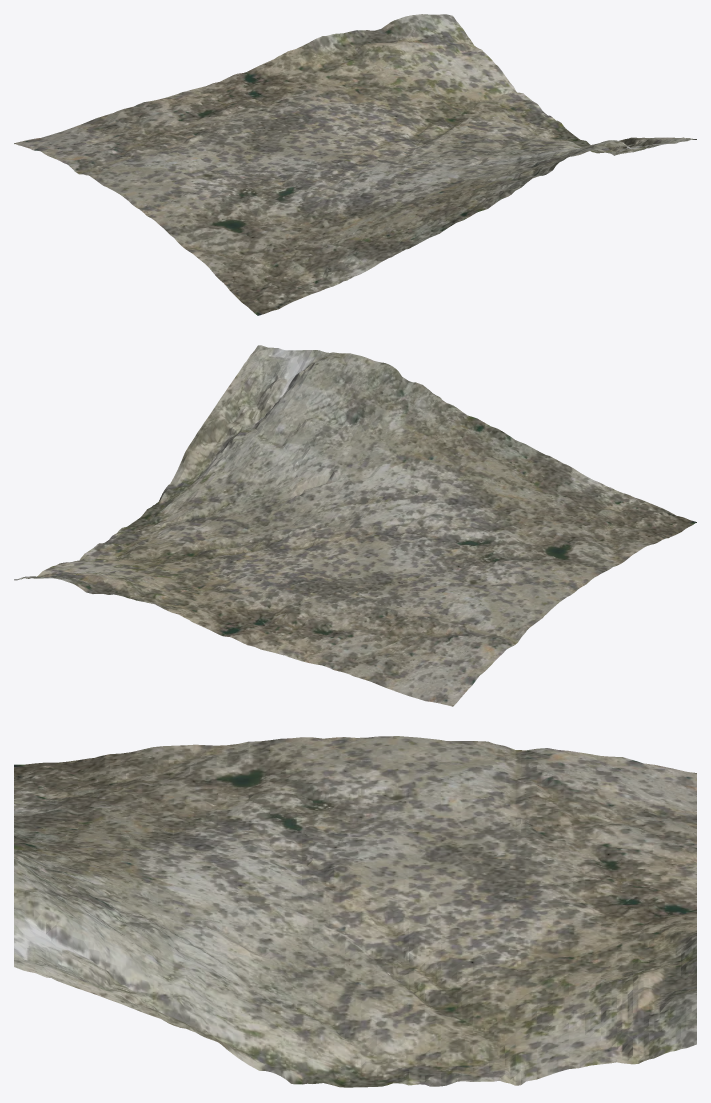
3 views of the same model, one above another, from view 1: azimuth 30°, elevation 25°; view 2: azimuth 150°, elevation 25°; view 3: azimuth 270°, elevation 25° (orthographic). The views are drawn at different scales.
Size of the model in its own units: 500 by 111 by 481.
Materials: 1 (1 with a texture image).
